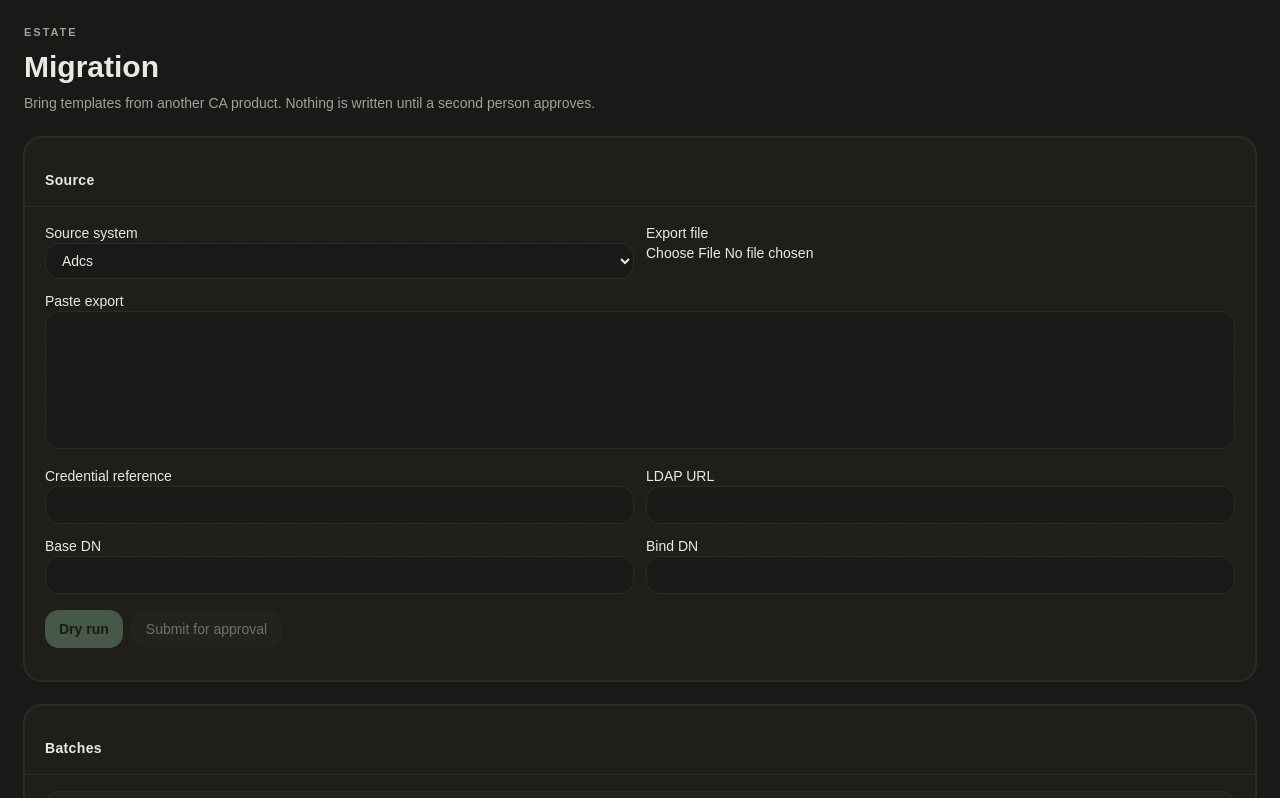
it: Migration › dry run shows the diff counts and rows
Select "Vault" in the dropdown labelled "Source system": coordinates (340, 260) [45,242,634,278]
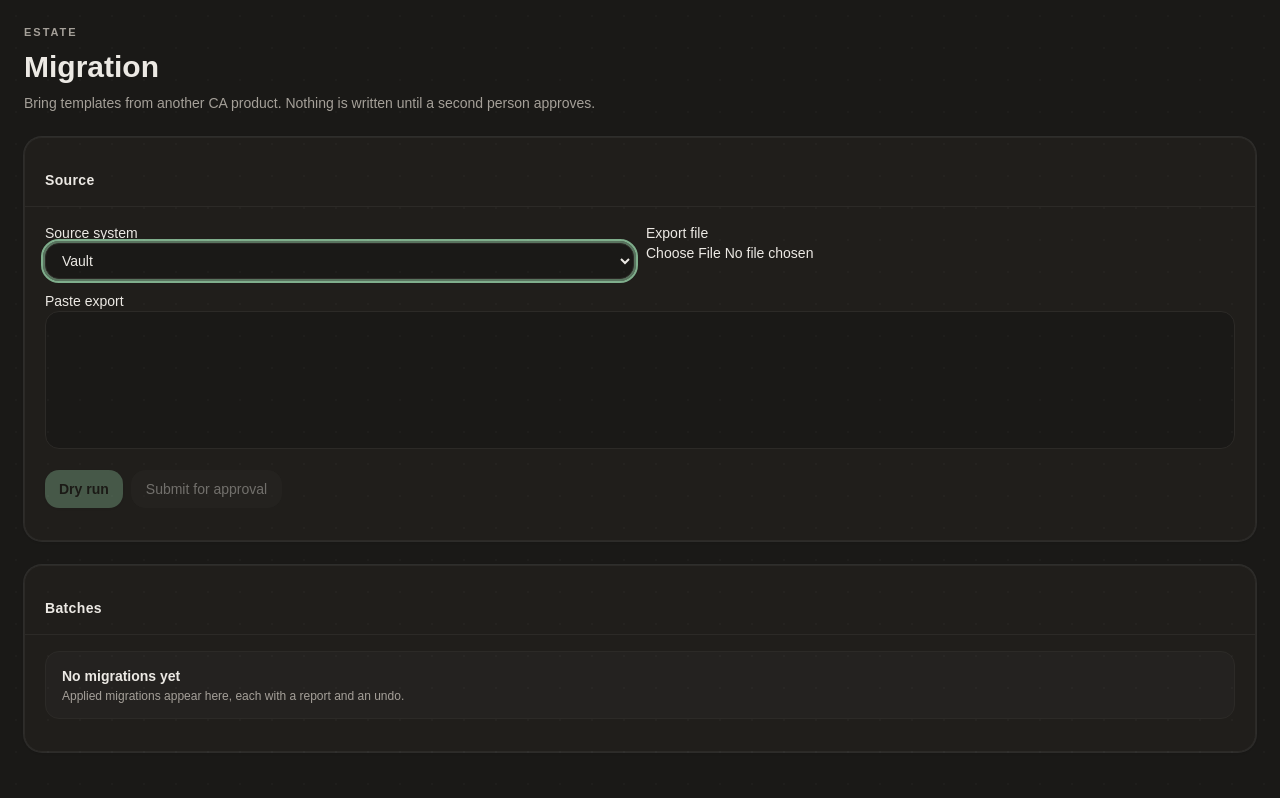
In the text box labelled "Paste export": coordinates (640, 380) [45,310,1235,448], type "x"
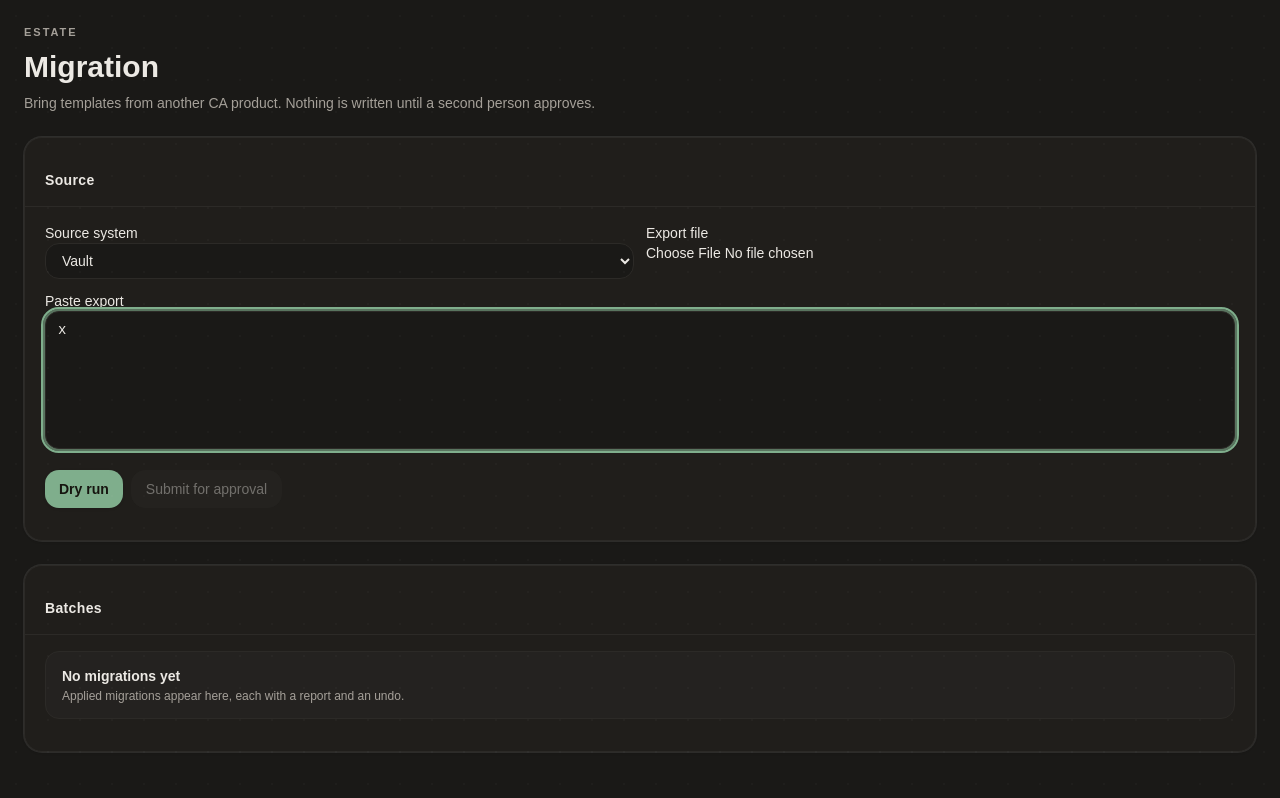
Click the button "Dry run": coordinates (84, 488) [45,470,123,508]
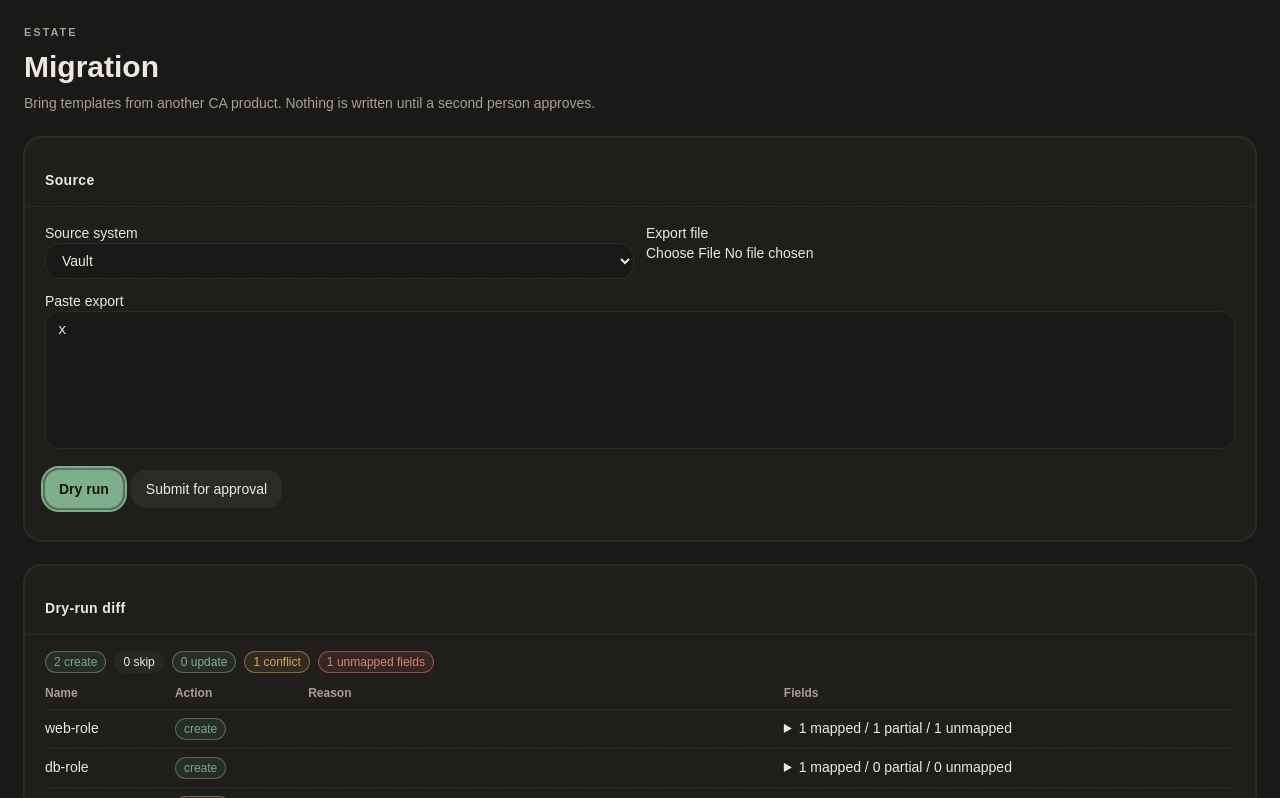
Check: the text "2 create" is shown, box [45,650,106,672]
Check: the text "1 conflict" is shown, box [244,650,310,672]
Check: the text "1 unmapped fields" is shown, box [318,650,434,672]
